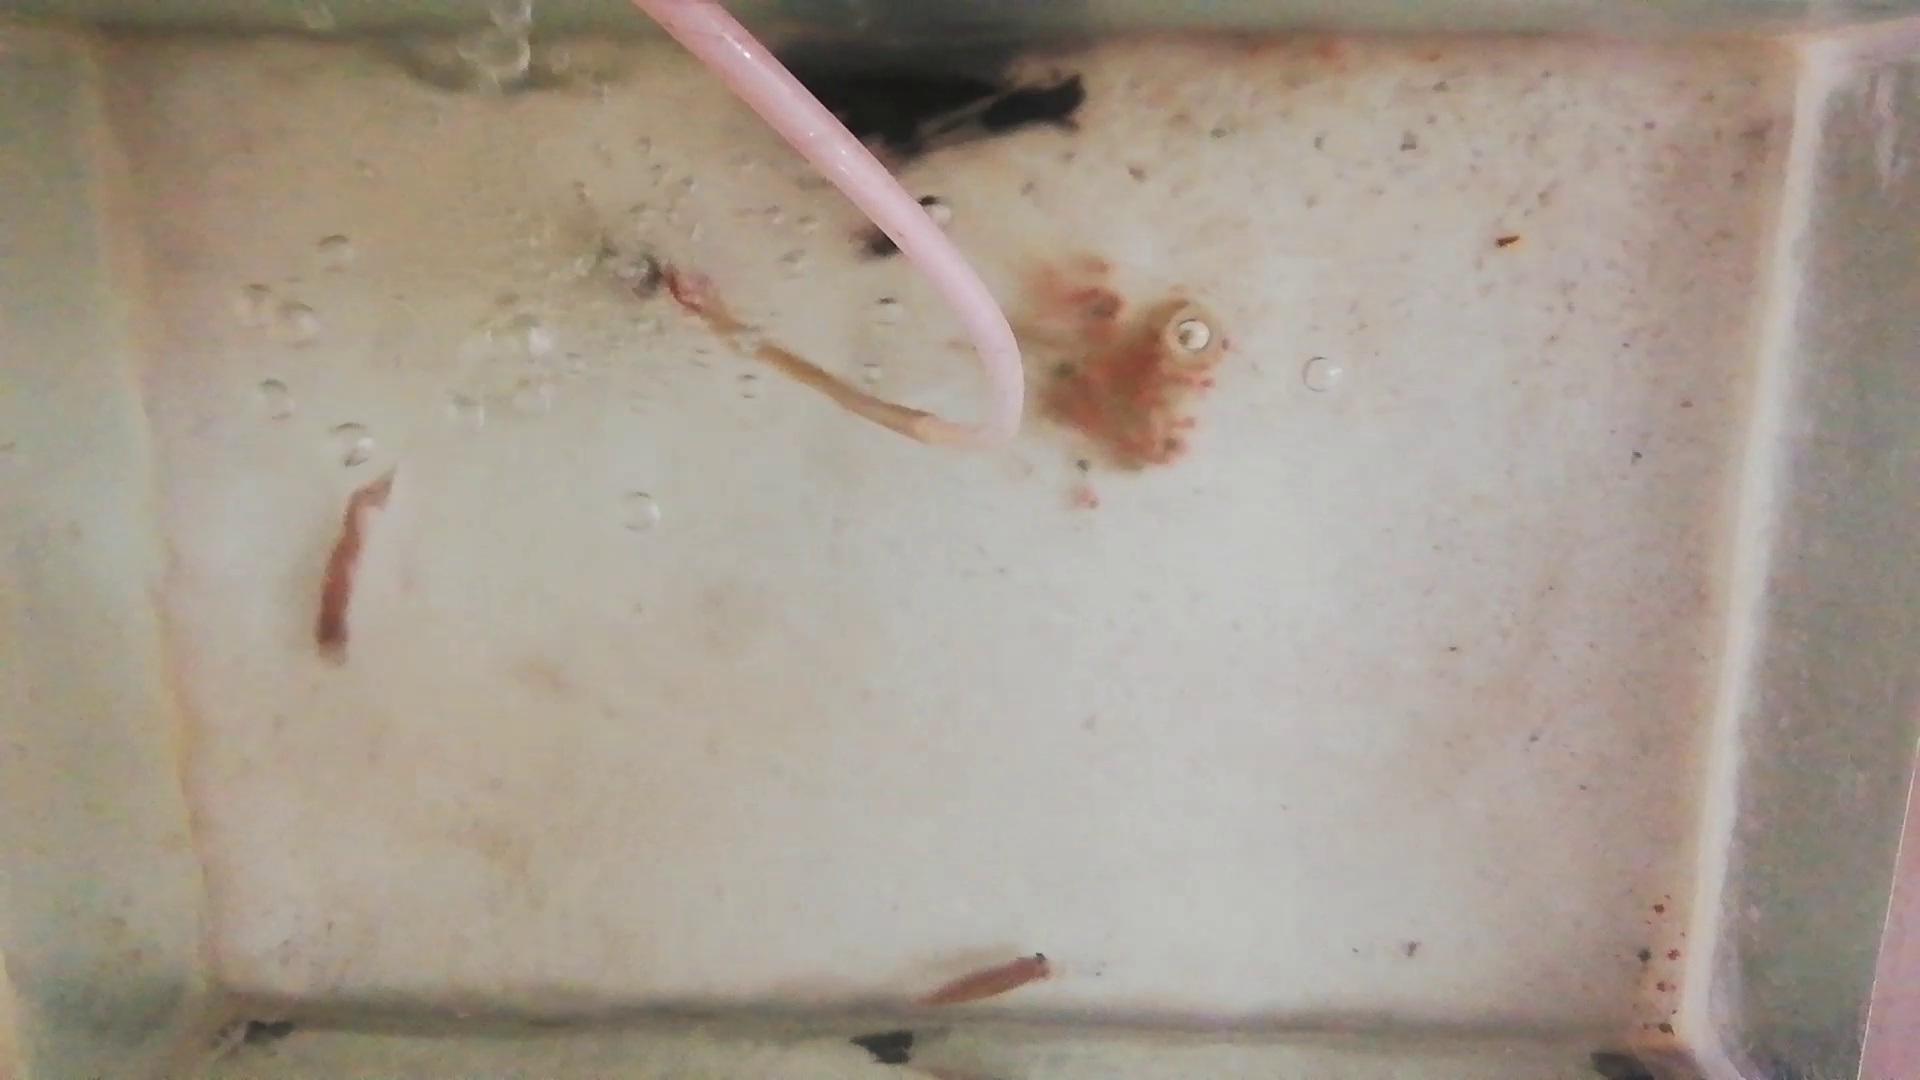fish: (309, 462, 398, 669), (920, 951, 1062, 1015)
